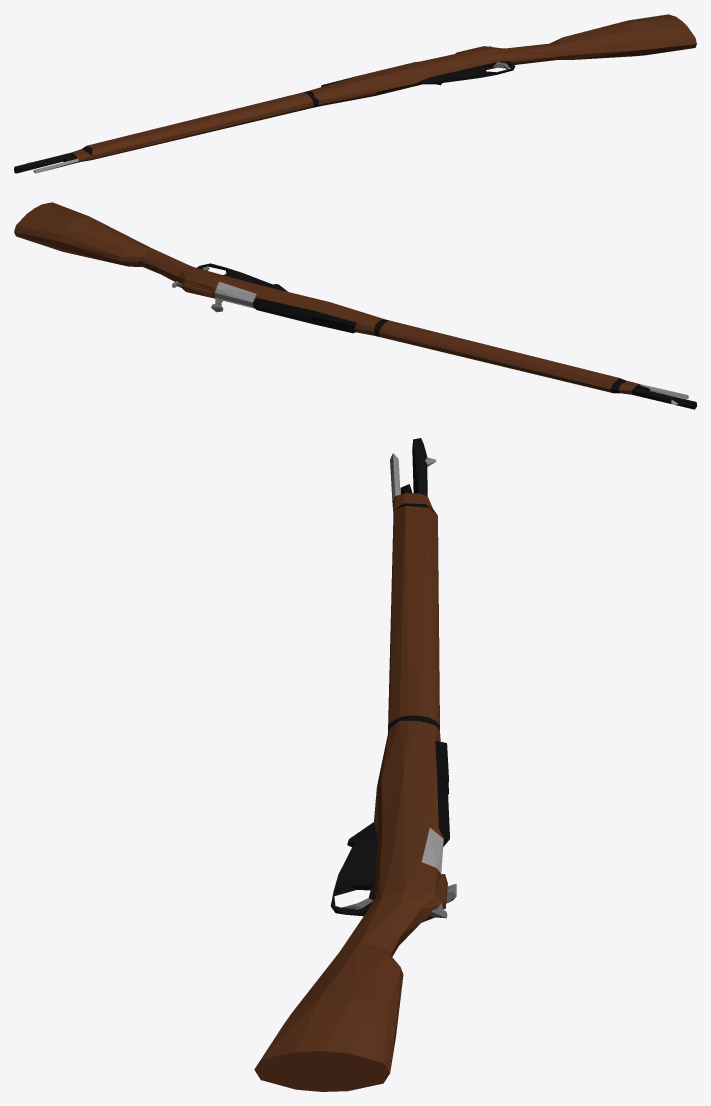
File: Model_mosin 1.fbx
The picture shows the model from 3 angles, top to bottom: view 1: azimuth 30°, elevation 25°; view 2: azimuth 150°, elevation 25°; view 3: azimuth 270°, elevation 25°; orthographic projection. The views are drawn at different scales.
Visible parts, largest first — view 1: Mesh_mosin; view 2: Mesh_mosin; view 3: Mesh_mosin.
Part boxes in pixels (<box>): Mesh_mosin: <box>14,14,696,173</box>; Mesh_mosin: <box>14,202,696,409</box>; Mesh_mosin: <box>254,438,456,1091</box>.
Bounding box in the file's own units: 20.15 × 6.13 × 148.
